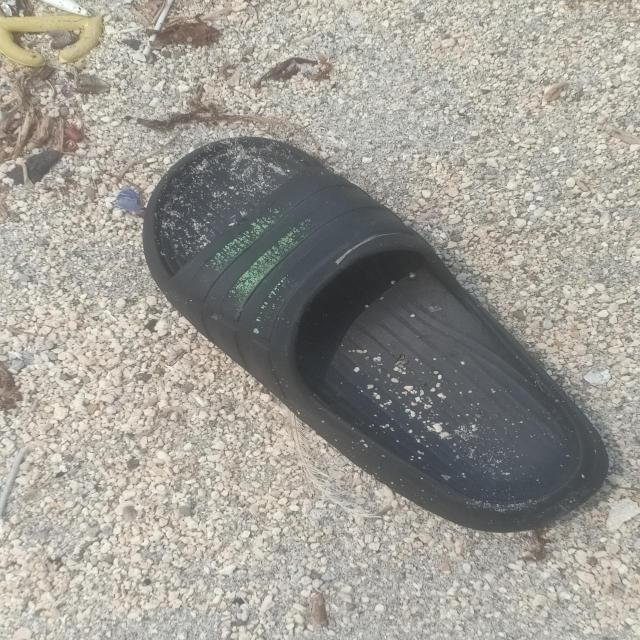rubber_waste: (140, 134, 612, 534)
